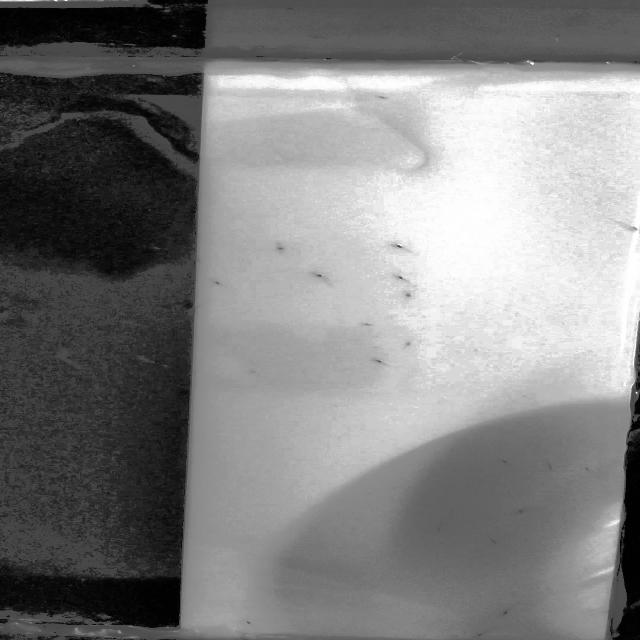shrimp: (427, 519, 456, 533), (303, 269, 334, 281), (369, 94, 402, 105), (496, 607, 523, 620), (472, 623, 494, 638), (386, 273, 414, 284), (362, 319, 388, 330), (208, 280, 236, 290), (247, 372, 283, 379), (498, 456, 516, 469), (399, 341, 420, 352), (270, 239, 289, 251), (541, 459, 559, 471), (395, 289, 416, 299), (484, 535, 499, 549), (386, 241, 409, 250), (242, 618, 264, 627), (516, 505, 530, 518), (377, 356, 392, 367), (443, 508, 458, 518), (584, 463, 594, 473)
